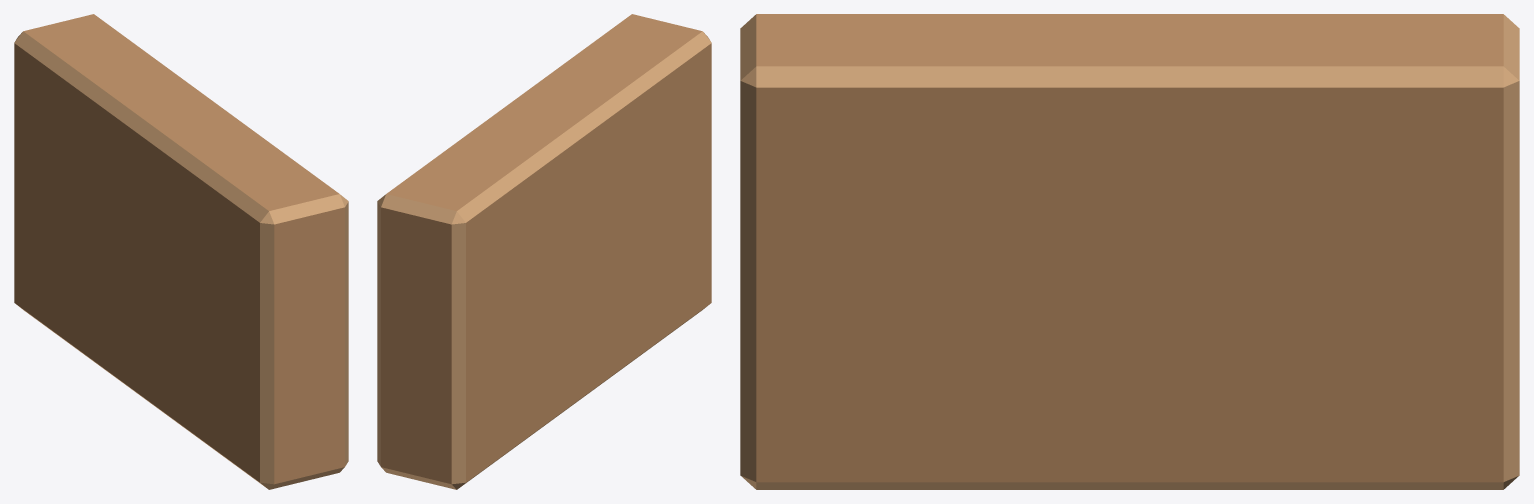
The model's file is Wall_E_3_1.obj.
The picture shows the model from 3 angles, left to right: view 1: azimuth 30°, elevation 25°; view 2: azimuth 150°, elevation 25°; view 3: azimuth 270°, elevation 25°; orthographic projection. The views are drawn at different scales.
Parts seen in each view (by area): view 1: Wall_E_3_1; view 2: Wall_E_3_1; view 3: Wall_E_3_1.
Part boxes in pixels (x1=…): Wall_E_3_1: x1=14, y1=14, x2=348, y2=489; Wall_E_3_1: x1=377, y1=14, x2=711, y2=489; Wall_E_3_1: x1=740, y1=14, x2=1519, y2=489.
Bounding box in the file's own units: 0.4 × 1.2 × 2.
